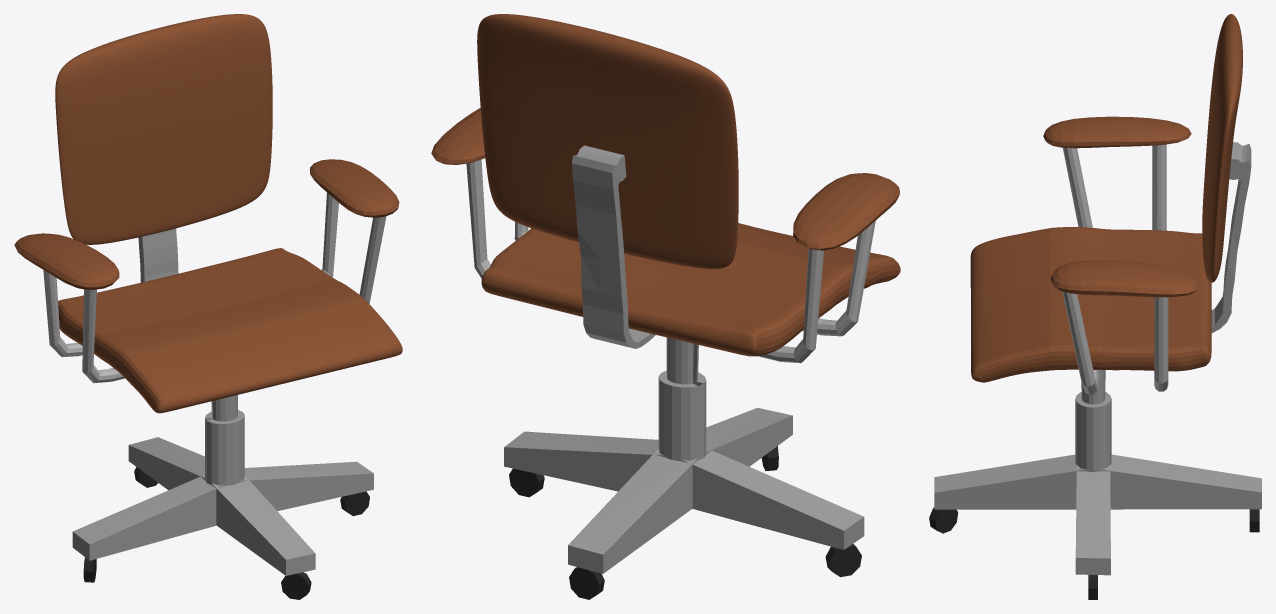
Rendered from chair.dae.
3 views of the same model, side by side, from view 1: azimuth 30°, elevation 25°; view 2: azimuth 150°, elevation 25°; view 3: azimuth 270°, elevation 25° (orthographic). The views are drawn at different scales.
Visible parts, largest first — view 1: chair_002; view 2: chair_002; view 3: chair_002.
Boxes of the visible parts, x1,y1,x2,y2 form: chair_002: (14, 14, 402, 599); chair_002: (431, 14, 900, 599); chair_002: (929, 14, 1261, 599).
Bounding box in the file's own units: 7.57 × 6.12 × 9.86.
